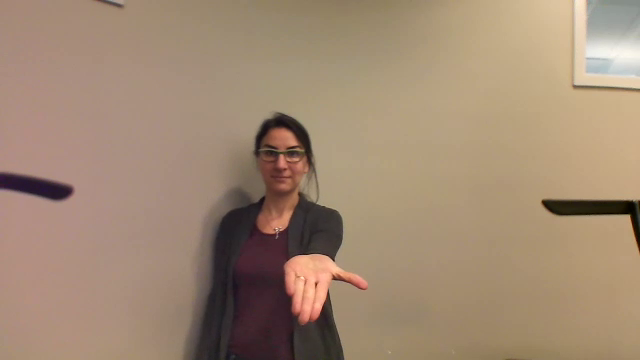land: (273, 253, 382, 324)
